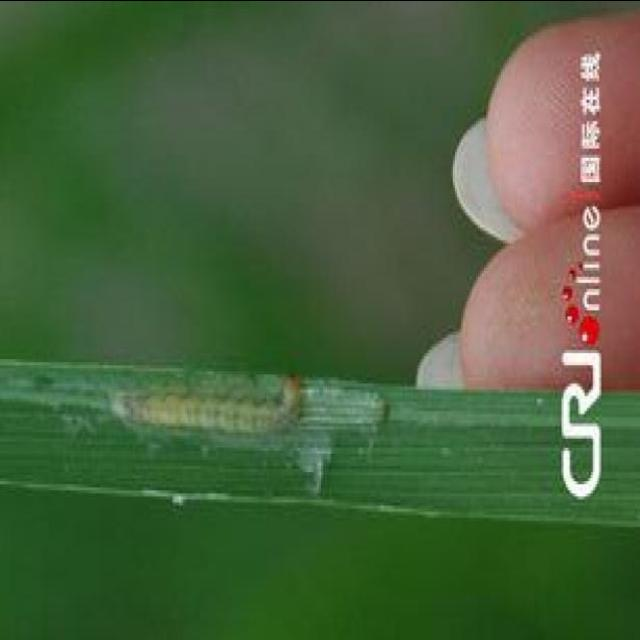leaf folder: (112, 376, 300, 433)
